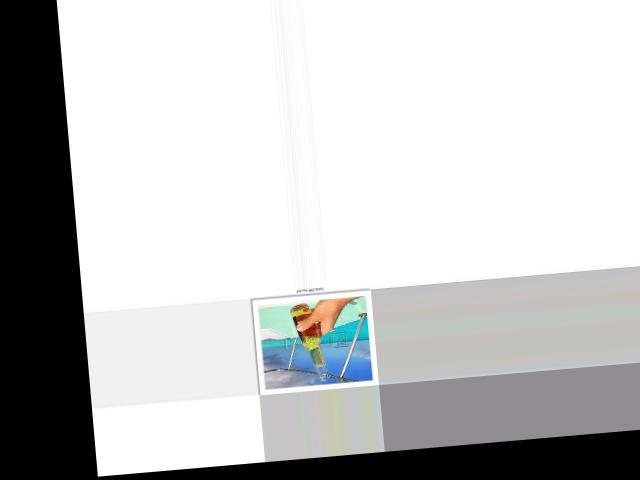beer: (288, 302, 331, 382)
